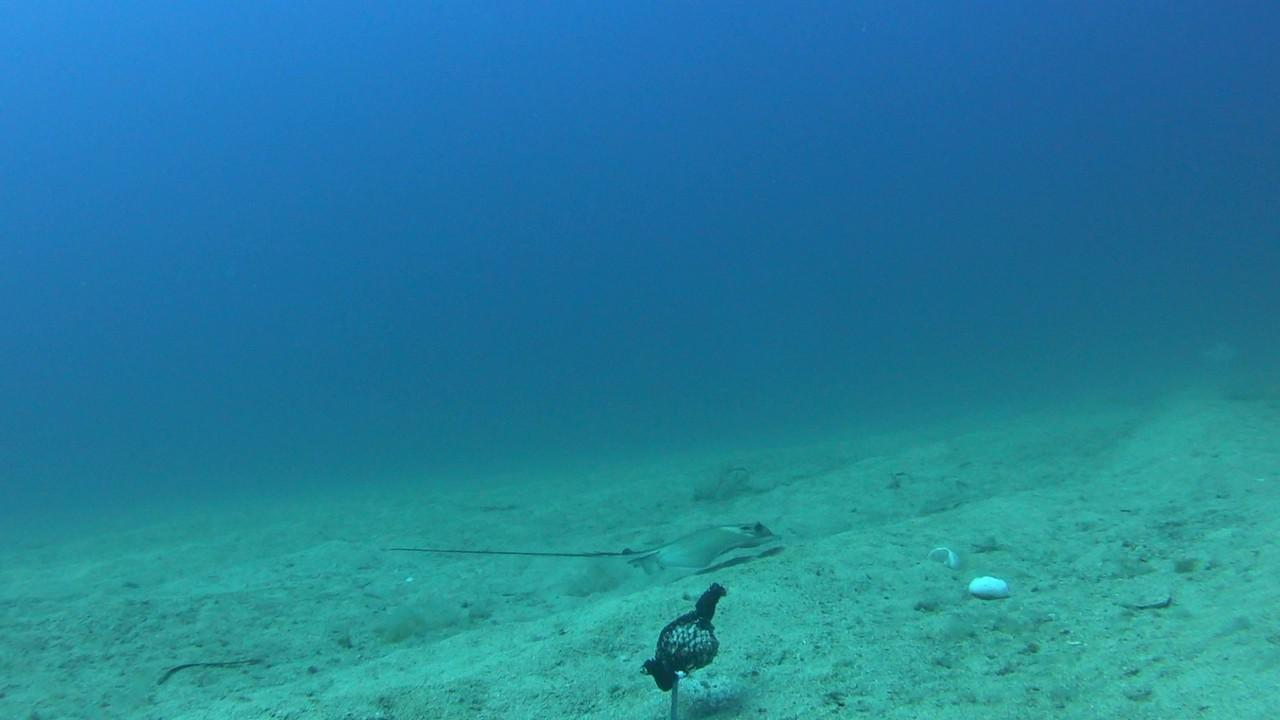myliobatis: (381, 518, 788, 585)
